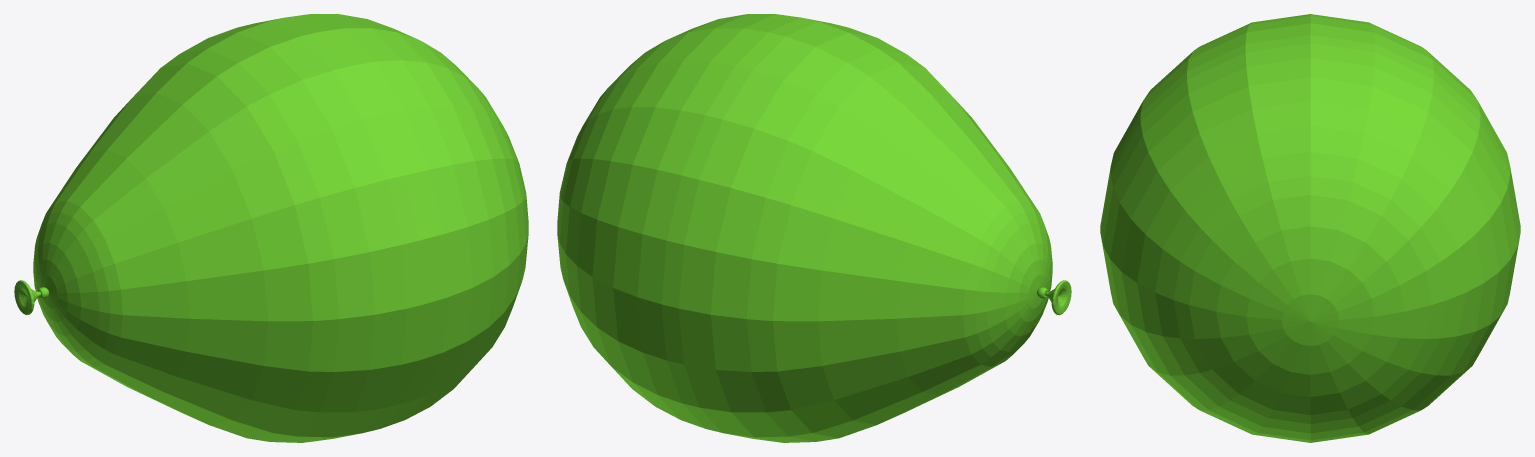
3 renders of one model, left to right at view 1: azimuth 30°, elevation 25°; view 2: azimuth 150°, elevation 25°; view 3: azimuth 270°, elevation 25°, orthographic.
Parts seen in each view (by area): view 1: world; view 2: world; view 3: world.
Boxes of the visible parts, x1=… form: world: x1=14, y1=14, x2=528, y2=442; world: x1=557, y1=14, x2=1071, y2=442; world: x1=1100, y1=14, x2=1520, y2=442.
Bounding box in the file's own units: 22.39 × 17.37 × 17.37.
